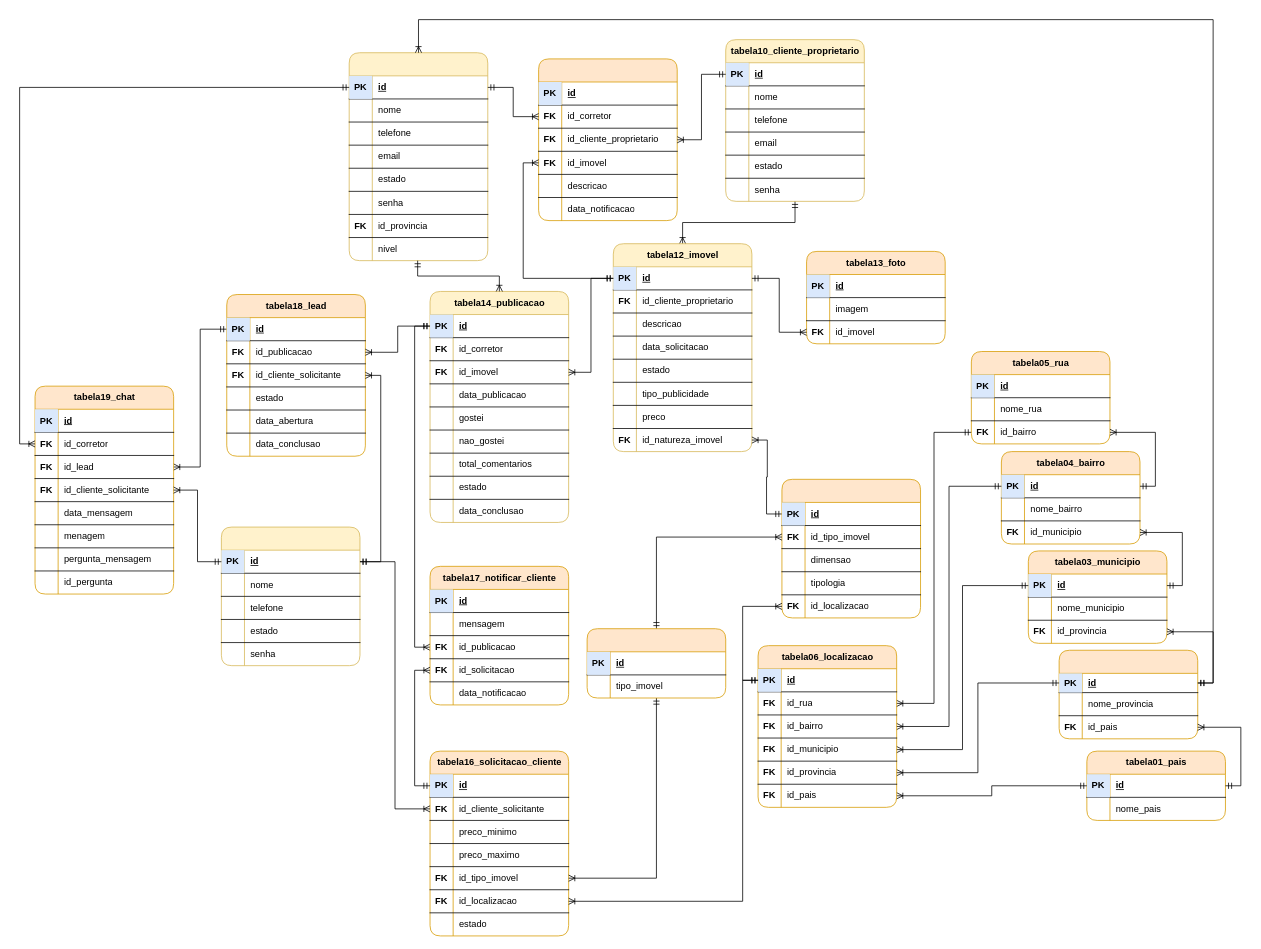
Image size: 1261x949. Some labels were removed from this diagram. Here are the shapes that lost their labels. From the top down, the box of each, then its label:
(348, 52, 488, 261): tabela09_funcionario
(538, 58, 677, 221): tabela15_notificar_proprietario
(781, 479, 921, 618): tabela08_natureza_imovel
(221, 526, 360, 666): tabela11_cliente_solicitante
(586, 628, 726, 698): tabela07_tipo_imovel
(1058, 649, 1198, 739): tabela02_provincia
